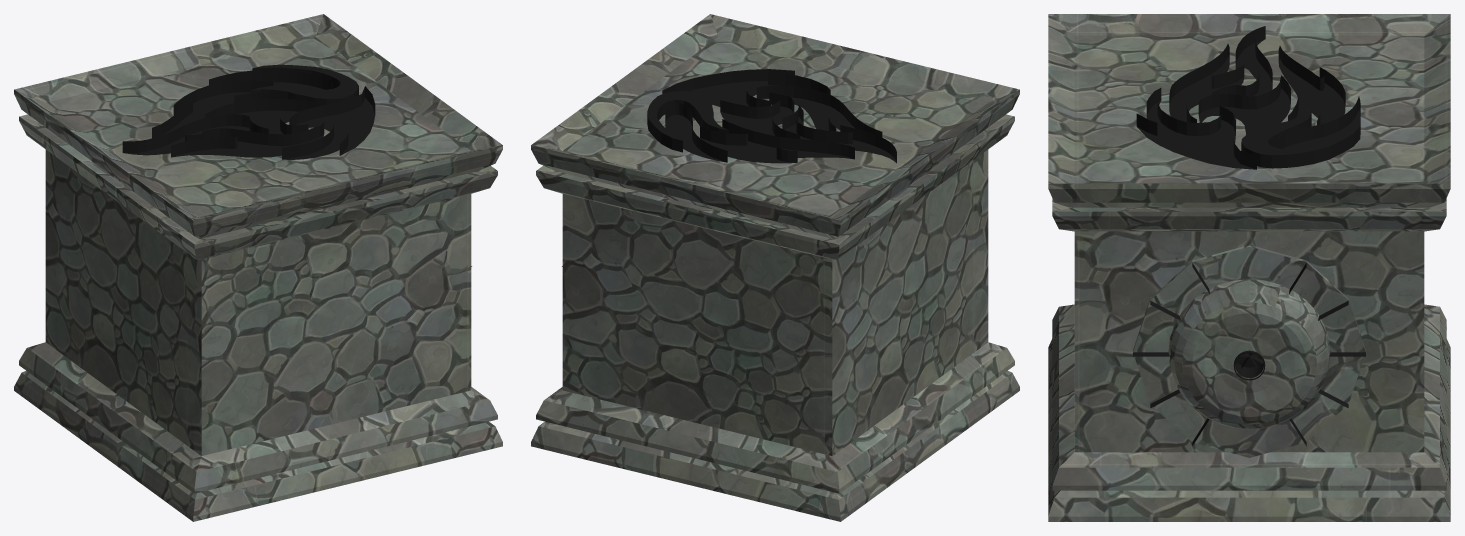
File: fire_trap.fbx
The picture shows the model from 3 angles, left to right: view 1: azimuth 30°, elevation 25°; view 2: azimuth 150°, elevation 25°; view 3: azimuth 270°, elevation 25°; orthographic projection. The views are drawn at different scales.
Visible parts, largest first — view 1: fire_trap, fire; view 2: fire_trap, fire; view 3: fire_trap, fire.
Boxes of the visible parts, left/top/right/bottom form: fire_trap: left=14, top=14, right=502, bottom=521; fire: left=122, top=64, right=375, bottom=159; fire_trap: left=531, top=14, right=1019, bottom=521; fire: left=647, top=69, right=896, bottom=163; fire_trap: left=1048, top=14, right=1450, bottom=521; fire: left=1136, top=26, right=1360, bottom=169.
Size of the model in its own units: 114 by 98.76 by 106.
